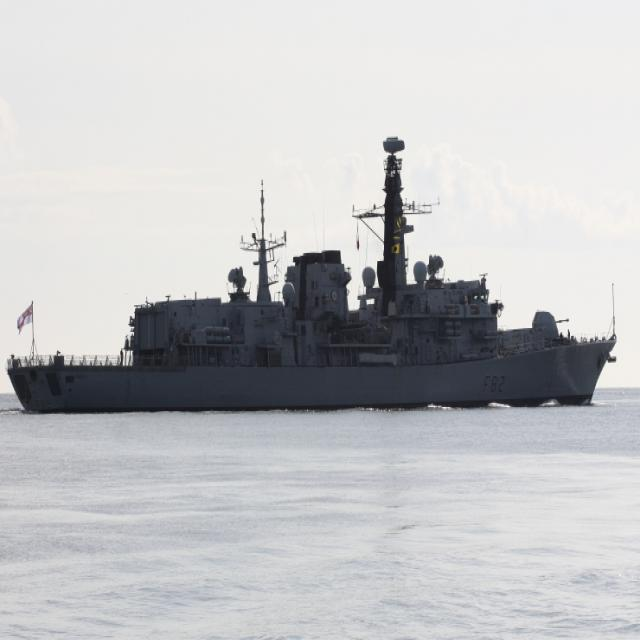Fragata: (3, 132, 617, 420)
